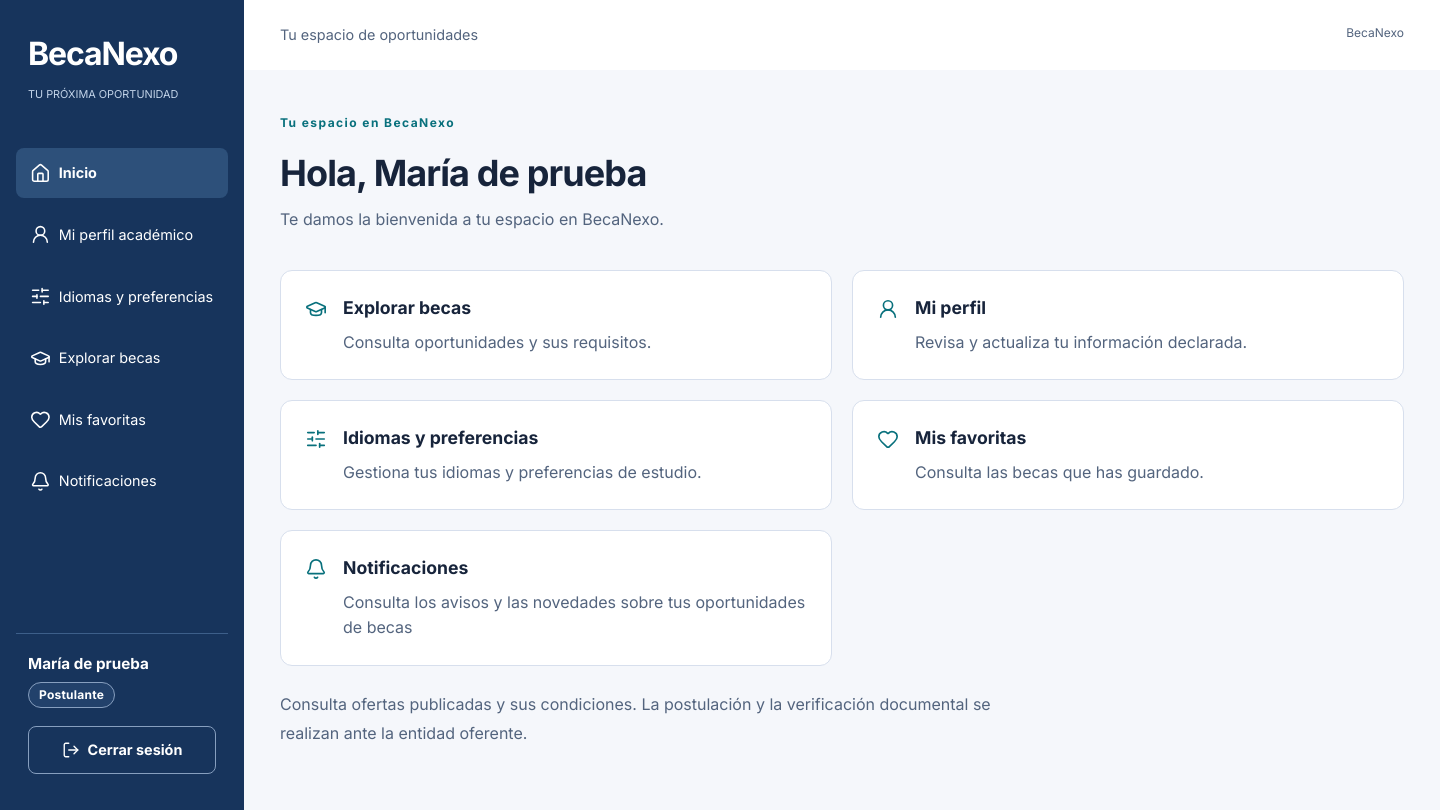
Scenario: integra Inicio de postulante sin duplicar acciones de cuenta
Check: the heading "Hola, María de prueba" is shown, box [280,151,646,195]
Check: the headings read "Explorar becas", "Mi perfil", "Idiomas y preferencias", "Mis favoritas", "Notificaciones", in this order, box [343,297,471,318]; [915,297,986,318]; [343,427,538,448]; [915,427,1026,448]; [343,557,468,578]
Click the link "Notificaciones".
click(556, 598)  # box [280,530,832,666]
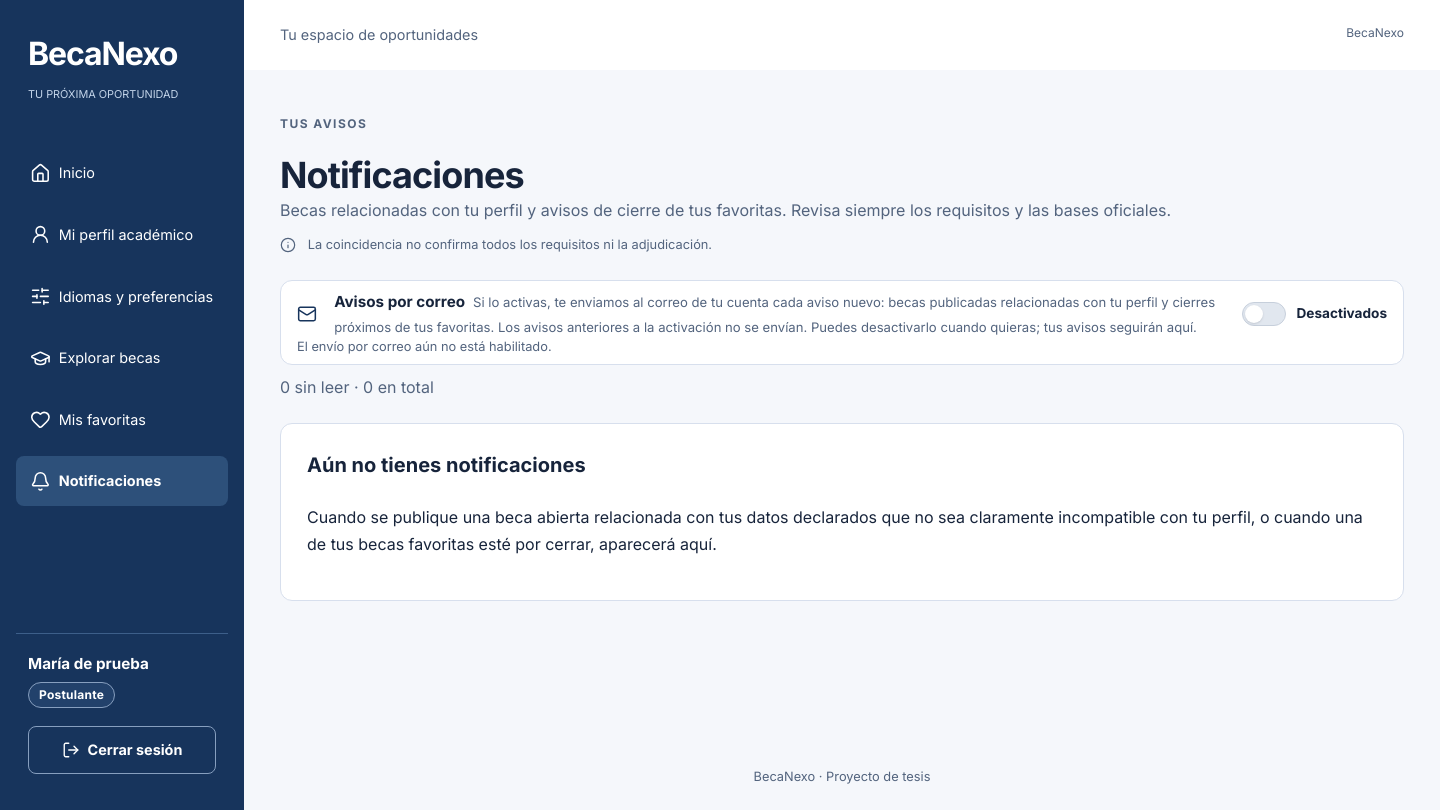
Check: the heading "Notificaciones" is shown, box [280,153,524,197]
